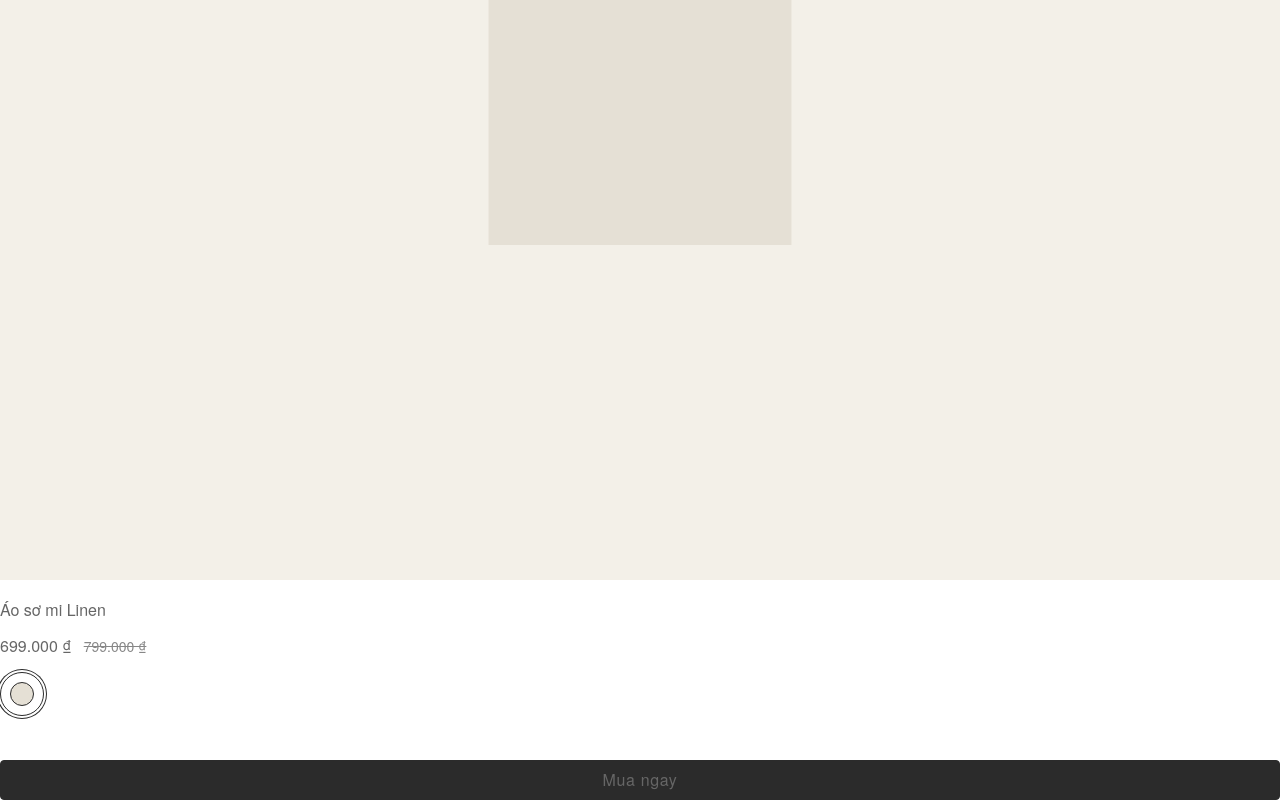
Test: ProductCard › submits the selected SKU and handles API failure safely
(page scrolled)
Click the button "Mua ngay".
click(640, 780)  # box [0,760,1279,799]
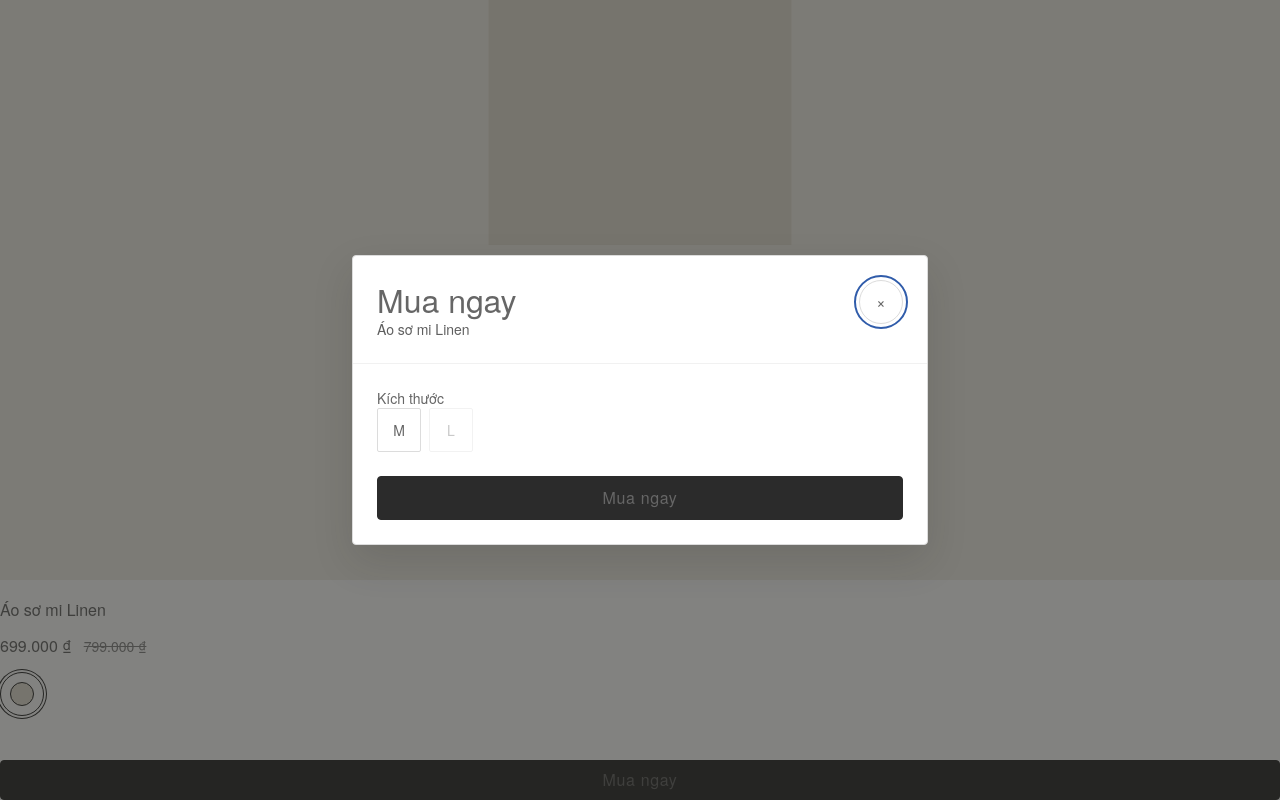
Click the radio button labelled "M".
click(399, 430)  # box [377,408,421,452]
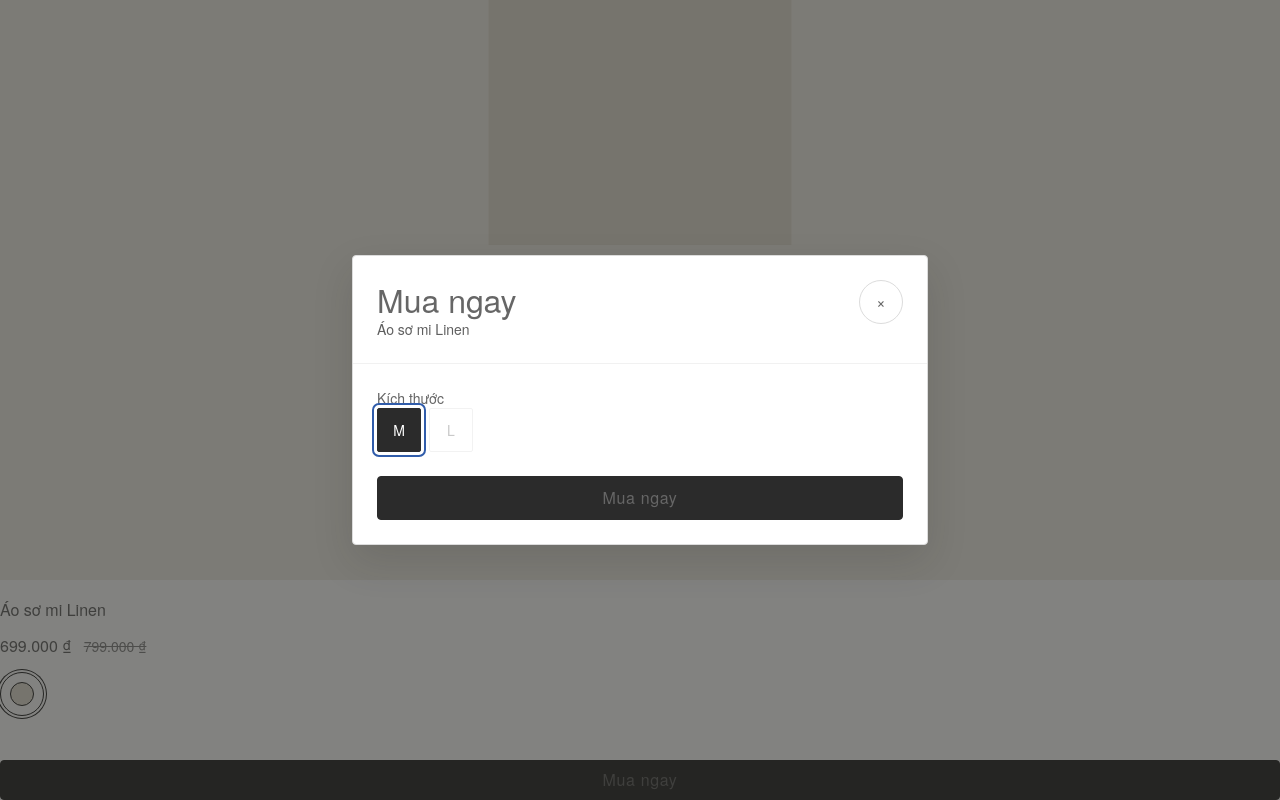
Click the button "Mua ngay".
click(640, 498)  # box [377,476,903,520]
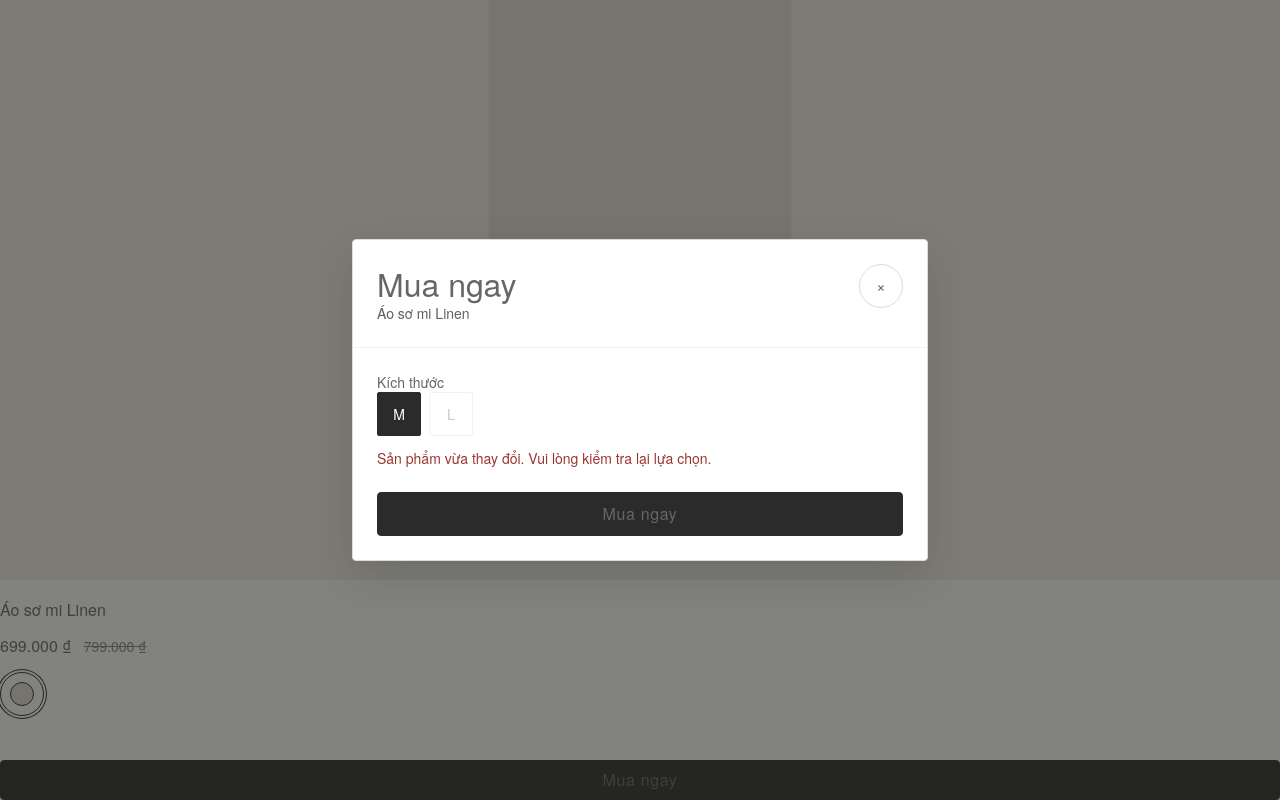
Expected: the message shows "Sản phẩm vừa thay đổi.", [377,448,711,468]
